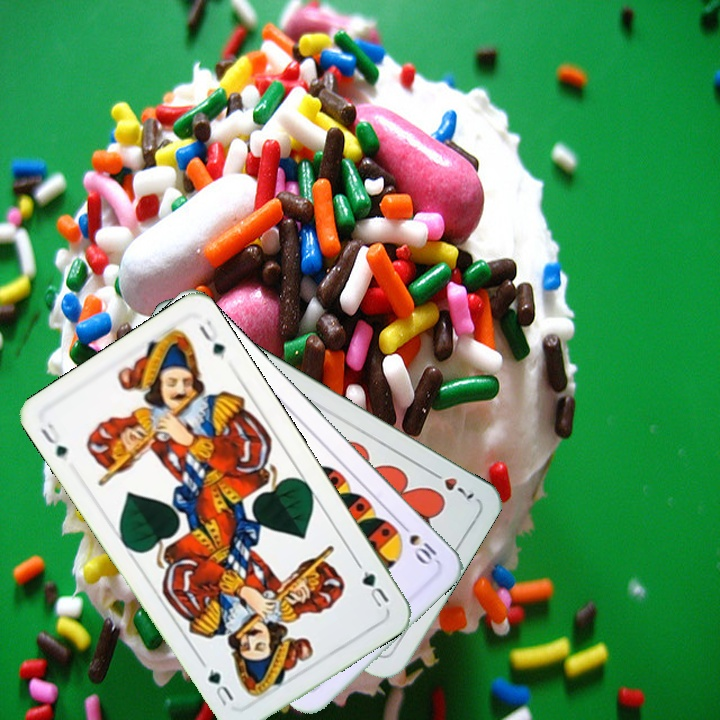GU: (36, 419, 71, 464), (357, 567, 392, 610)
H7: (425, 466, 478, 504)
S10: (395, 518, 440, 568)
